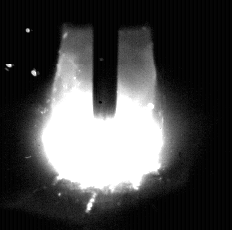arame: (94, 0, 118, 120)
poca: (40, 0, 164, 230)
